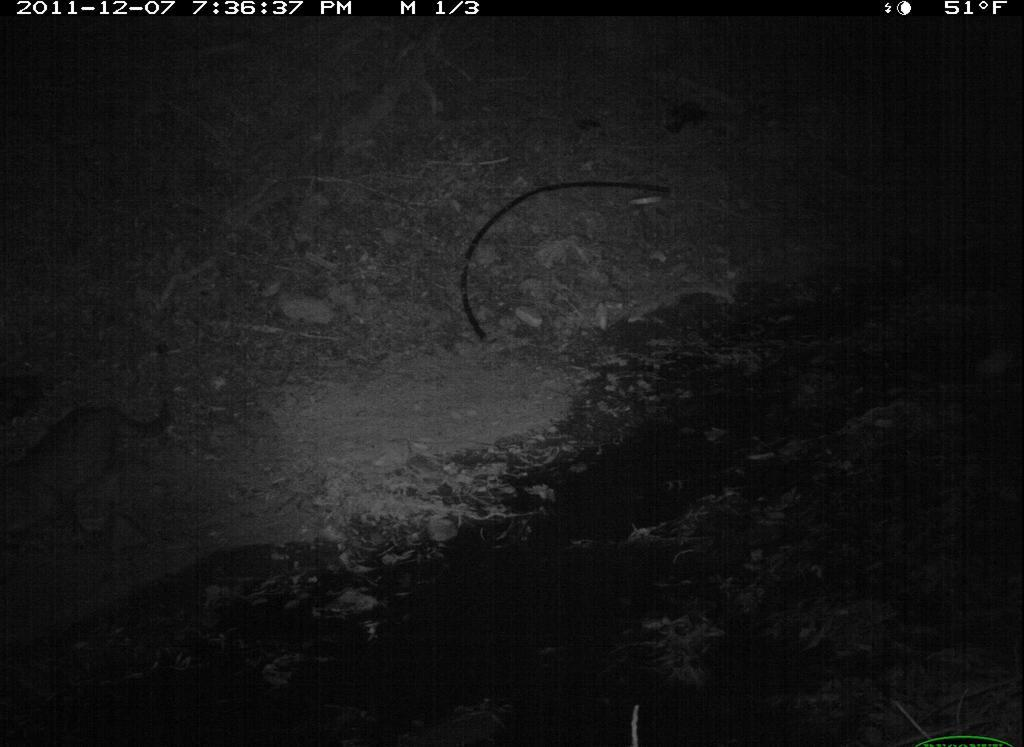cat: (2, 372, 200, 584)
